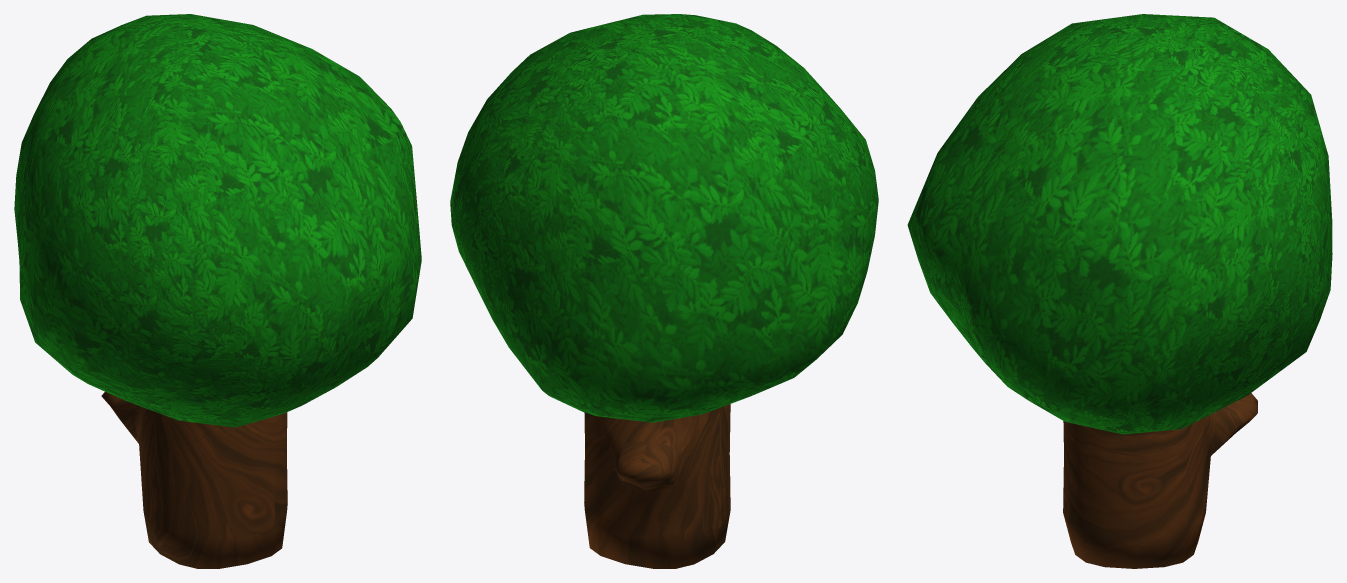
File: tree.obj
The picture shows the model from 3 angles, left to right: view 1: azimuth 30°, elevation 25°; view 2: azimuth 150°, elevation 25°; view 3: azimuth 270°, elevation 25°; orthographic projection.
Parts seen in each view (by area): view 1: Cube_Cube.005; view 2: Cube_Cube.005; view 3: Cube_Cube.005.
Part boxes in pixels (left/top/right/bottom): Cube_Cube.005: left=14, top=14, right=421, bottom=568; Cube_Cube.005: left=450, top=14, right=878, bottom=568; Cube_Cube.005: left=907, top=14, right=1332, bottom=568.
Size of the model in its own units: 1.23 by 1.66 by 1.26.
Materials: 1 (1 with a texture image).
